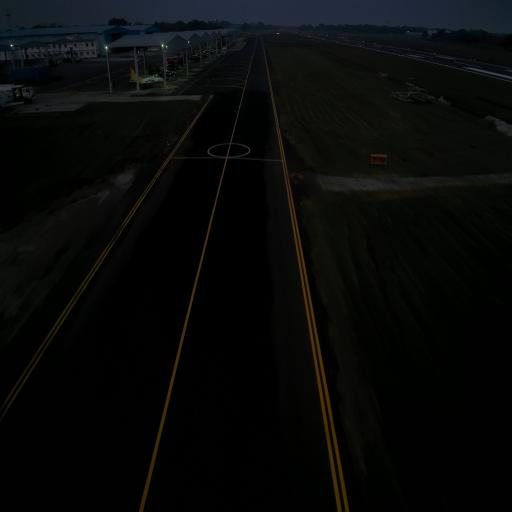on: (292, 137, 295, 144), (166, 140, 169, 146)
